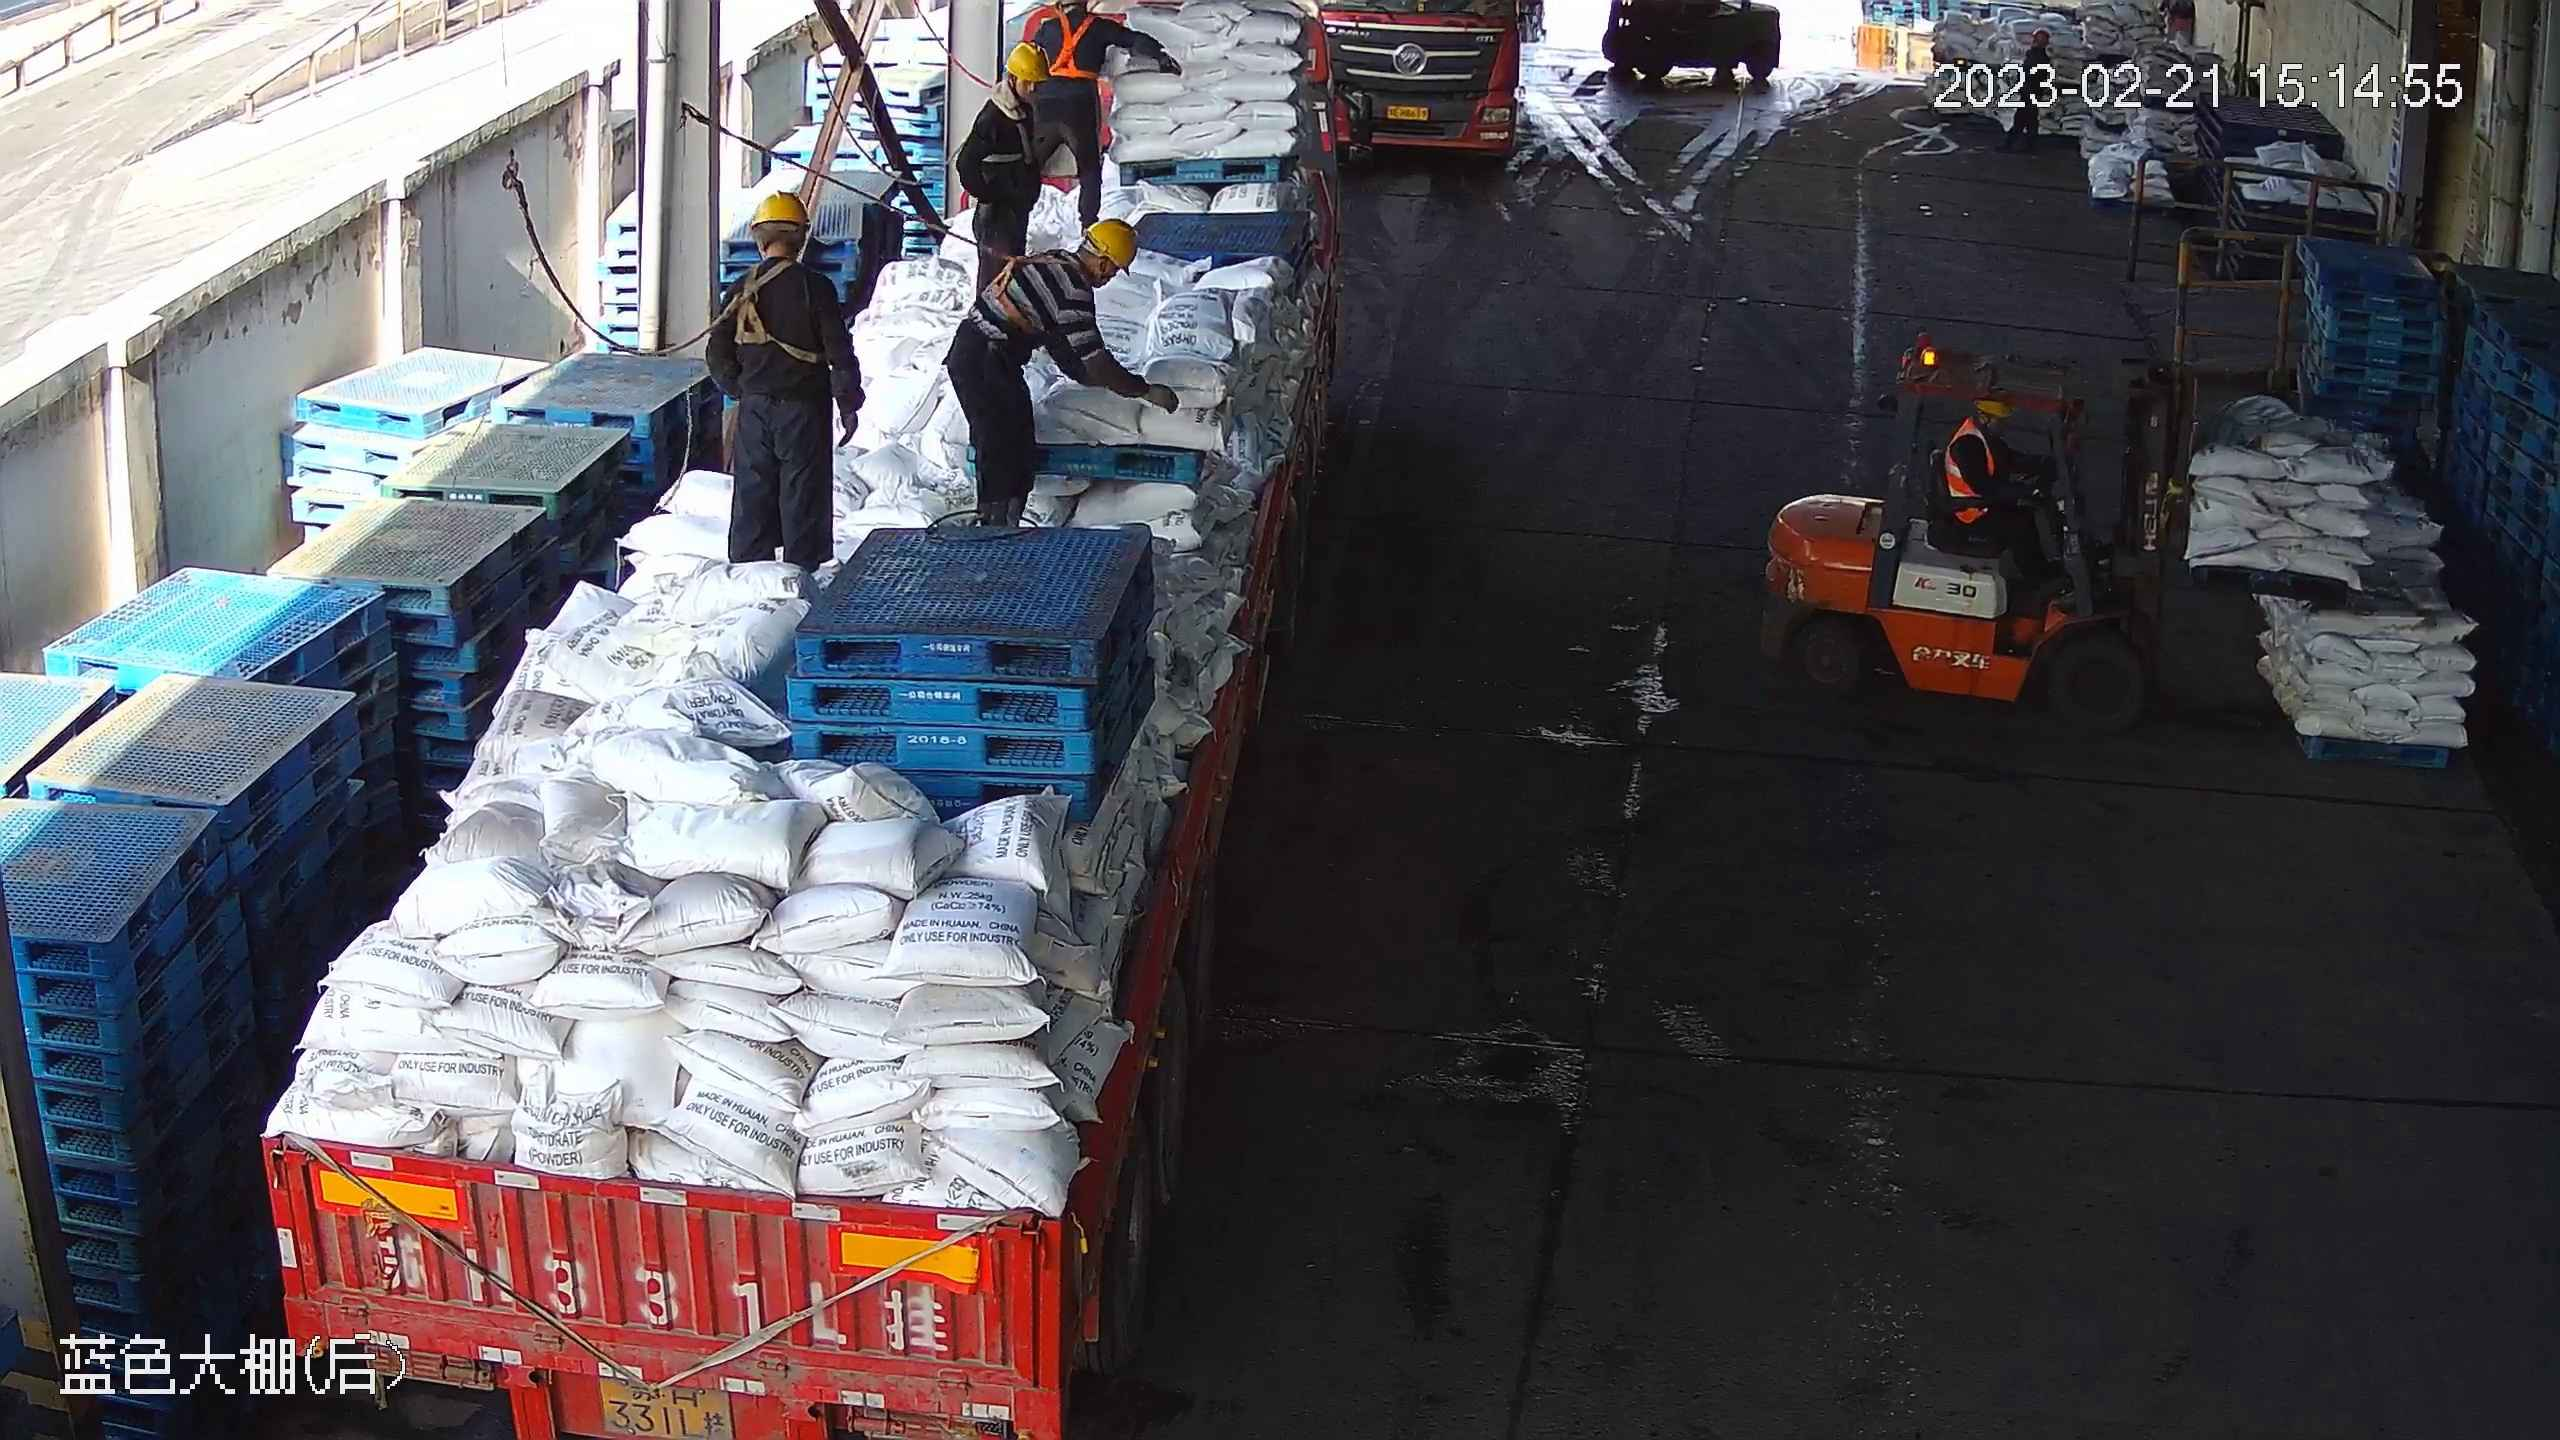belt: (731, 258, 820, 368), (984, 248, 1066, 329), (1045, 9, 1108, 83), (978, 90, 1035, 165)
head: (728, 192, 846, 311), (1023, 220, 1141, 333), (968, 40, 1055, 144), (1946, 396, 2027, 469)
helmet: (999, 40, 1055, 95), (1086, 220, 1136, 273), (753, 194, 811, 232), (1970, 397, 2014, 419)
people: (942, 208, 1168, 531), (703, 184, 870, 573), (1936, 395, 2061, 579), (961, 45, 1053, 286)
truck: (227, 1, 1340, 1440), (1316, 1, 1542, 172)
